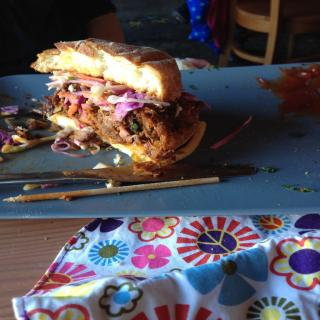Hamburger: (32, 38, 207, 174)
